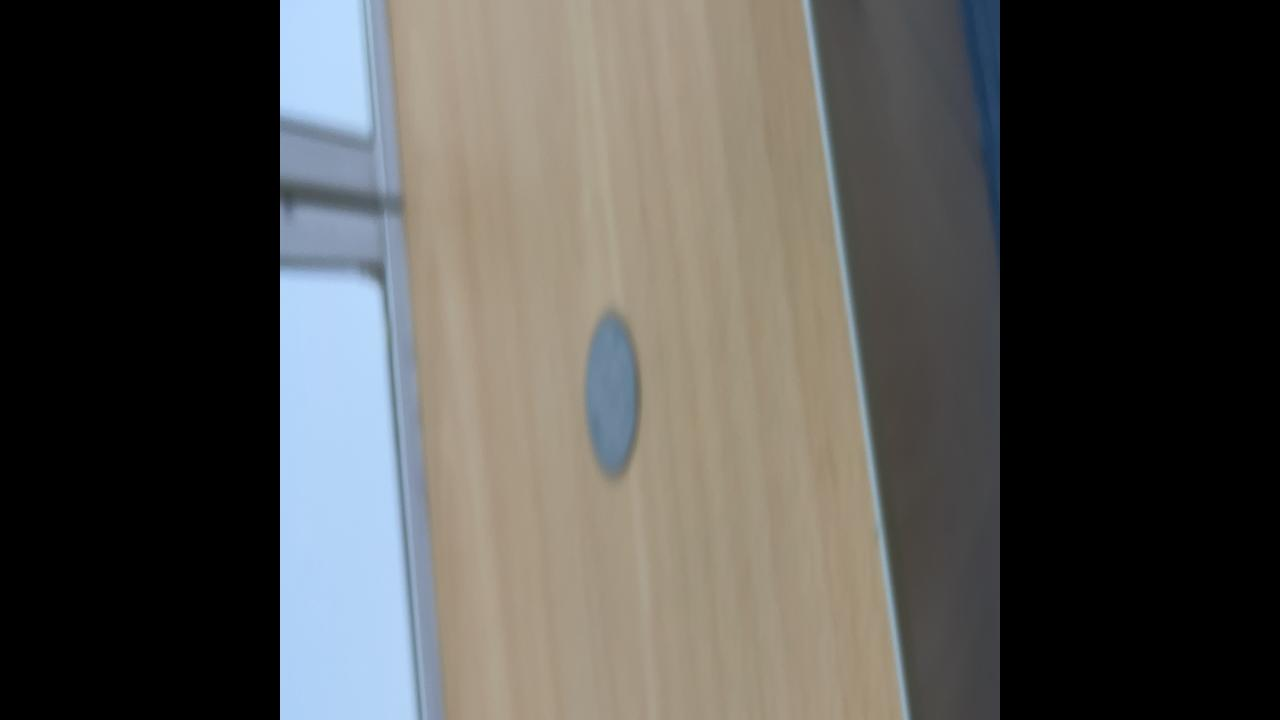coin: (581, 303, 642, 487)
